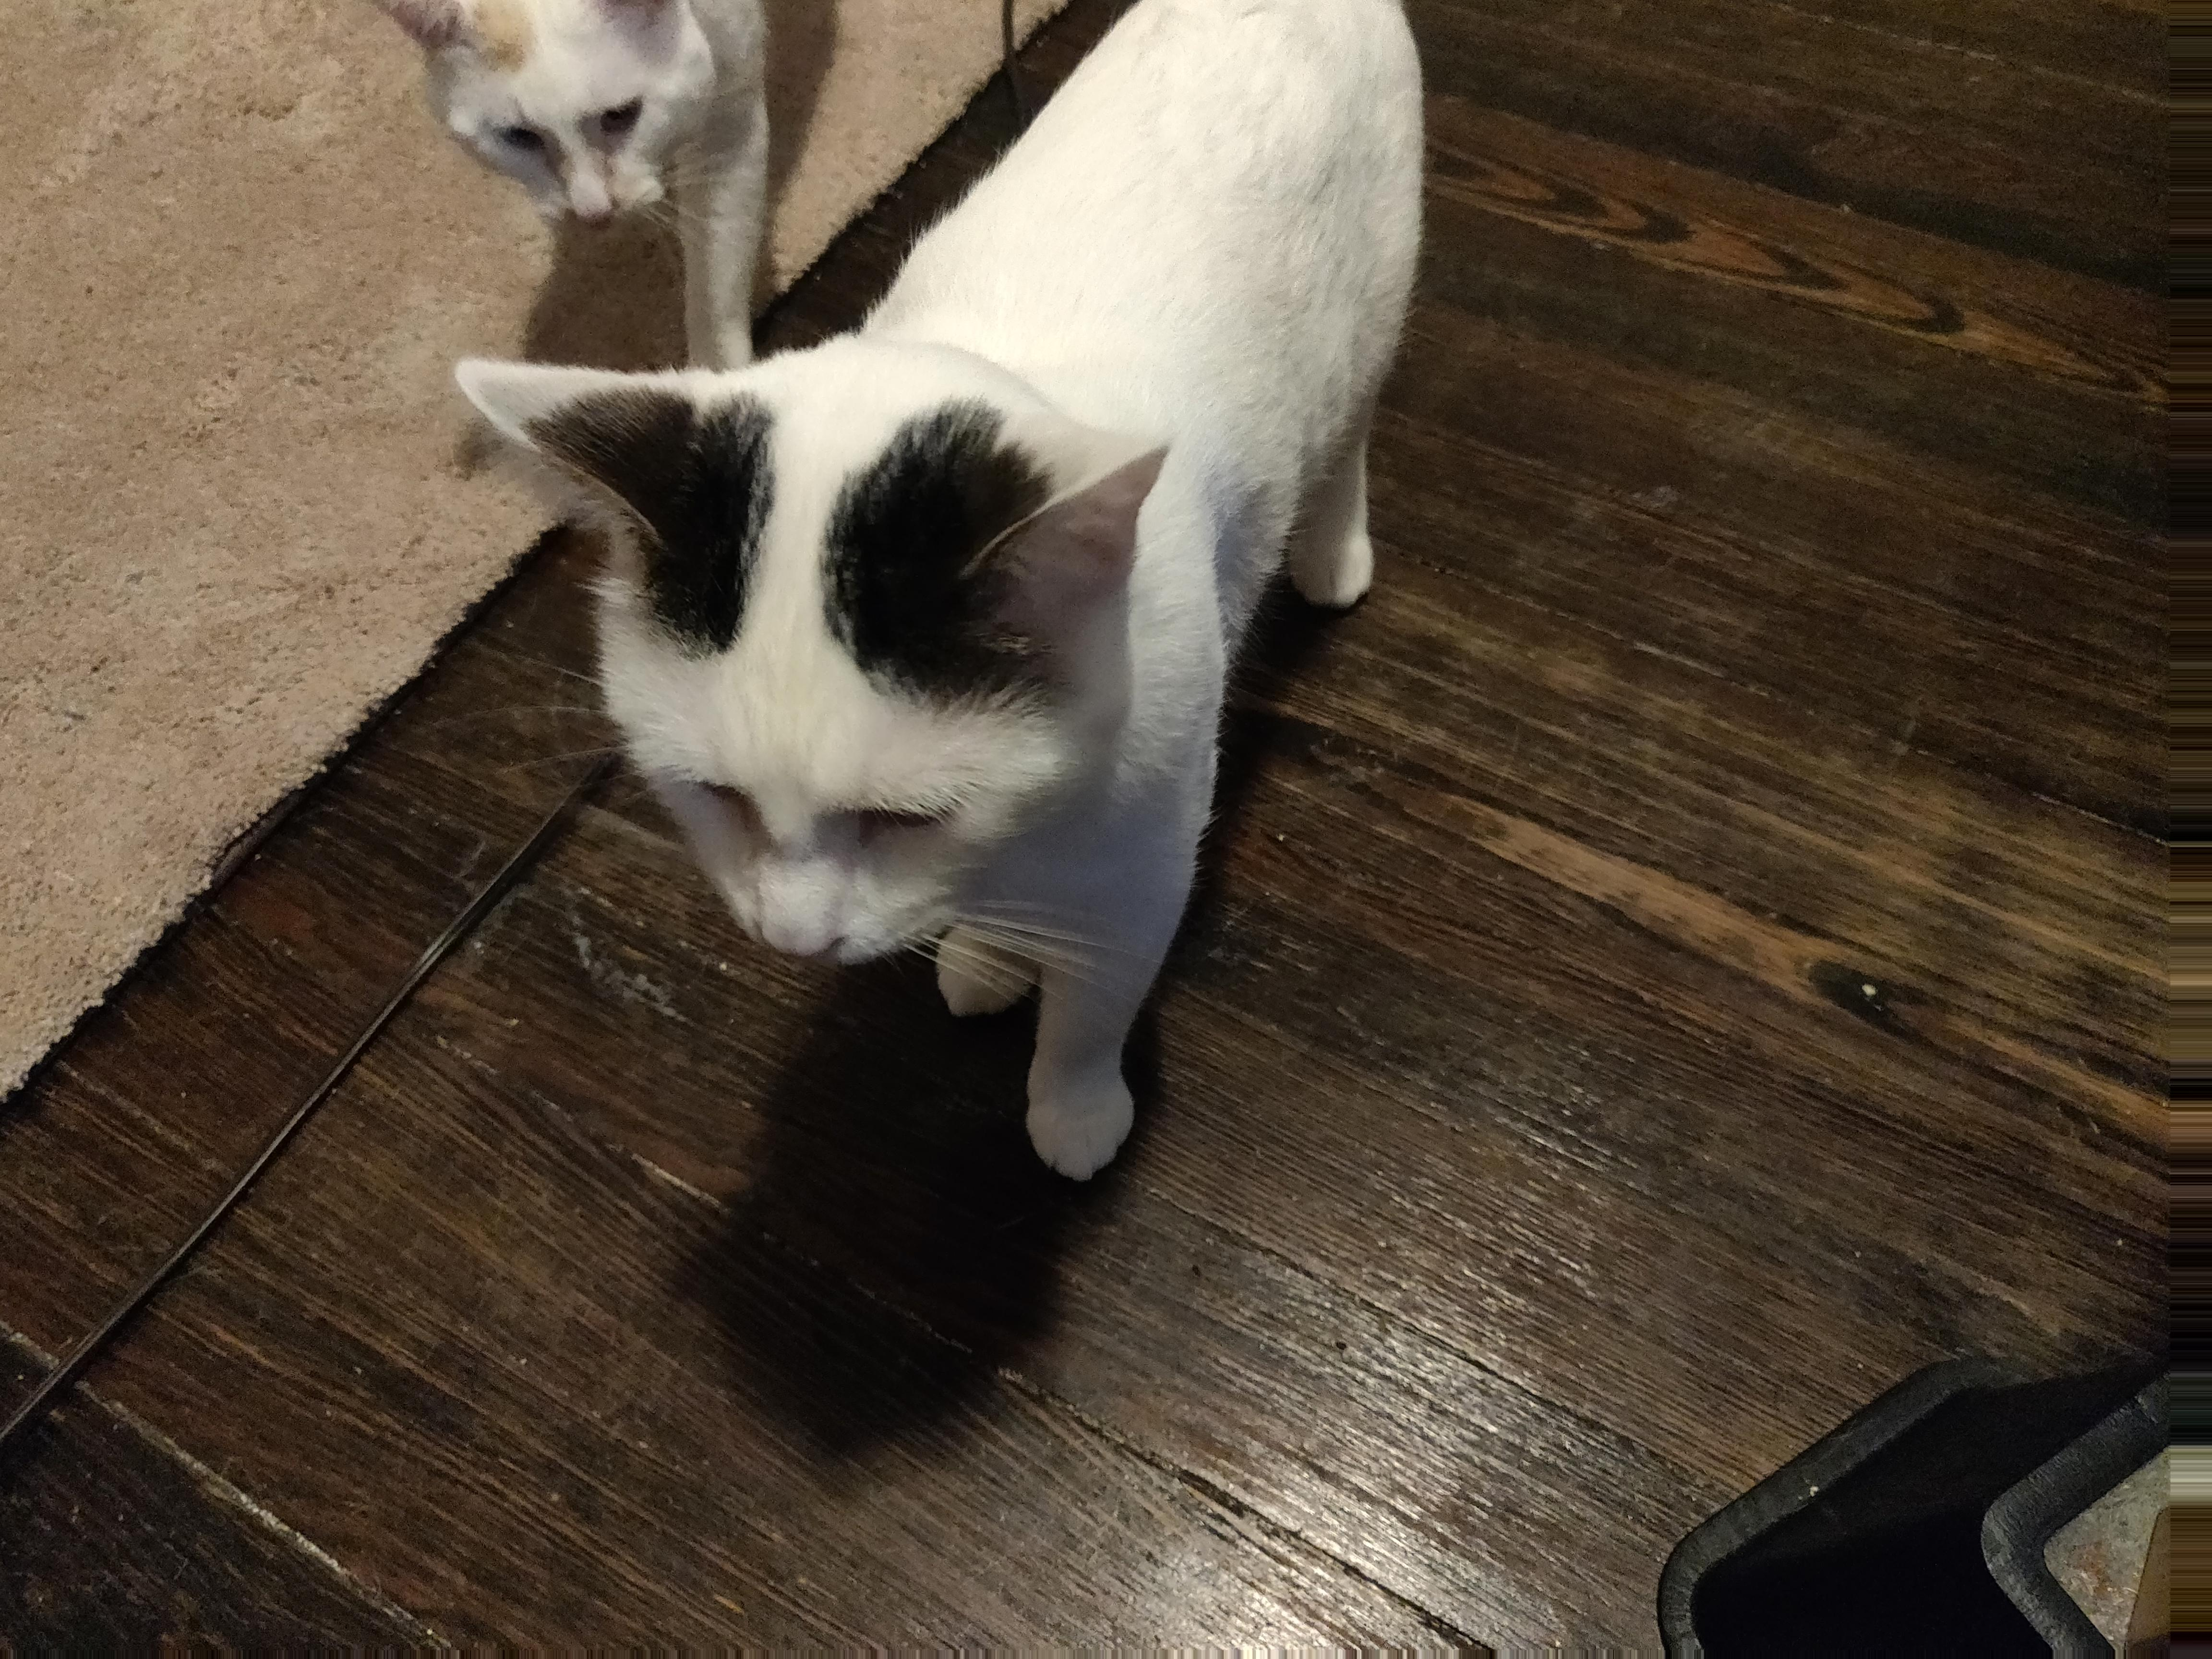cat: (392, 2, 1453, 1150)
